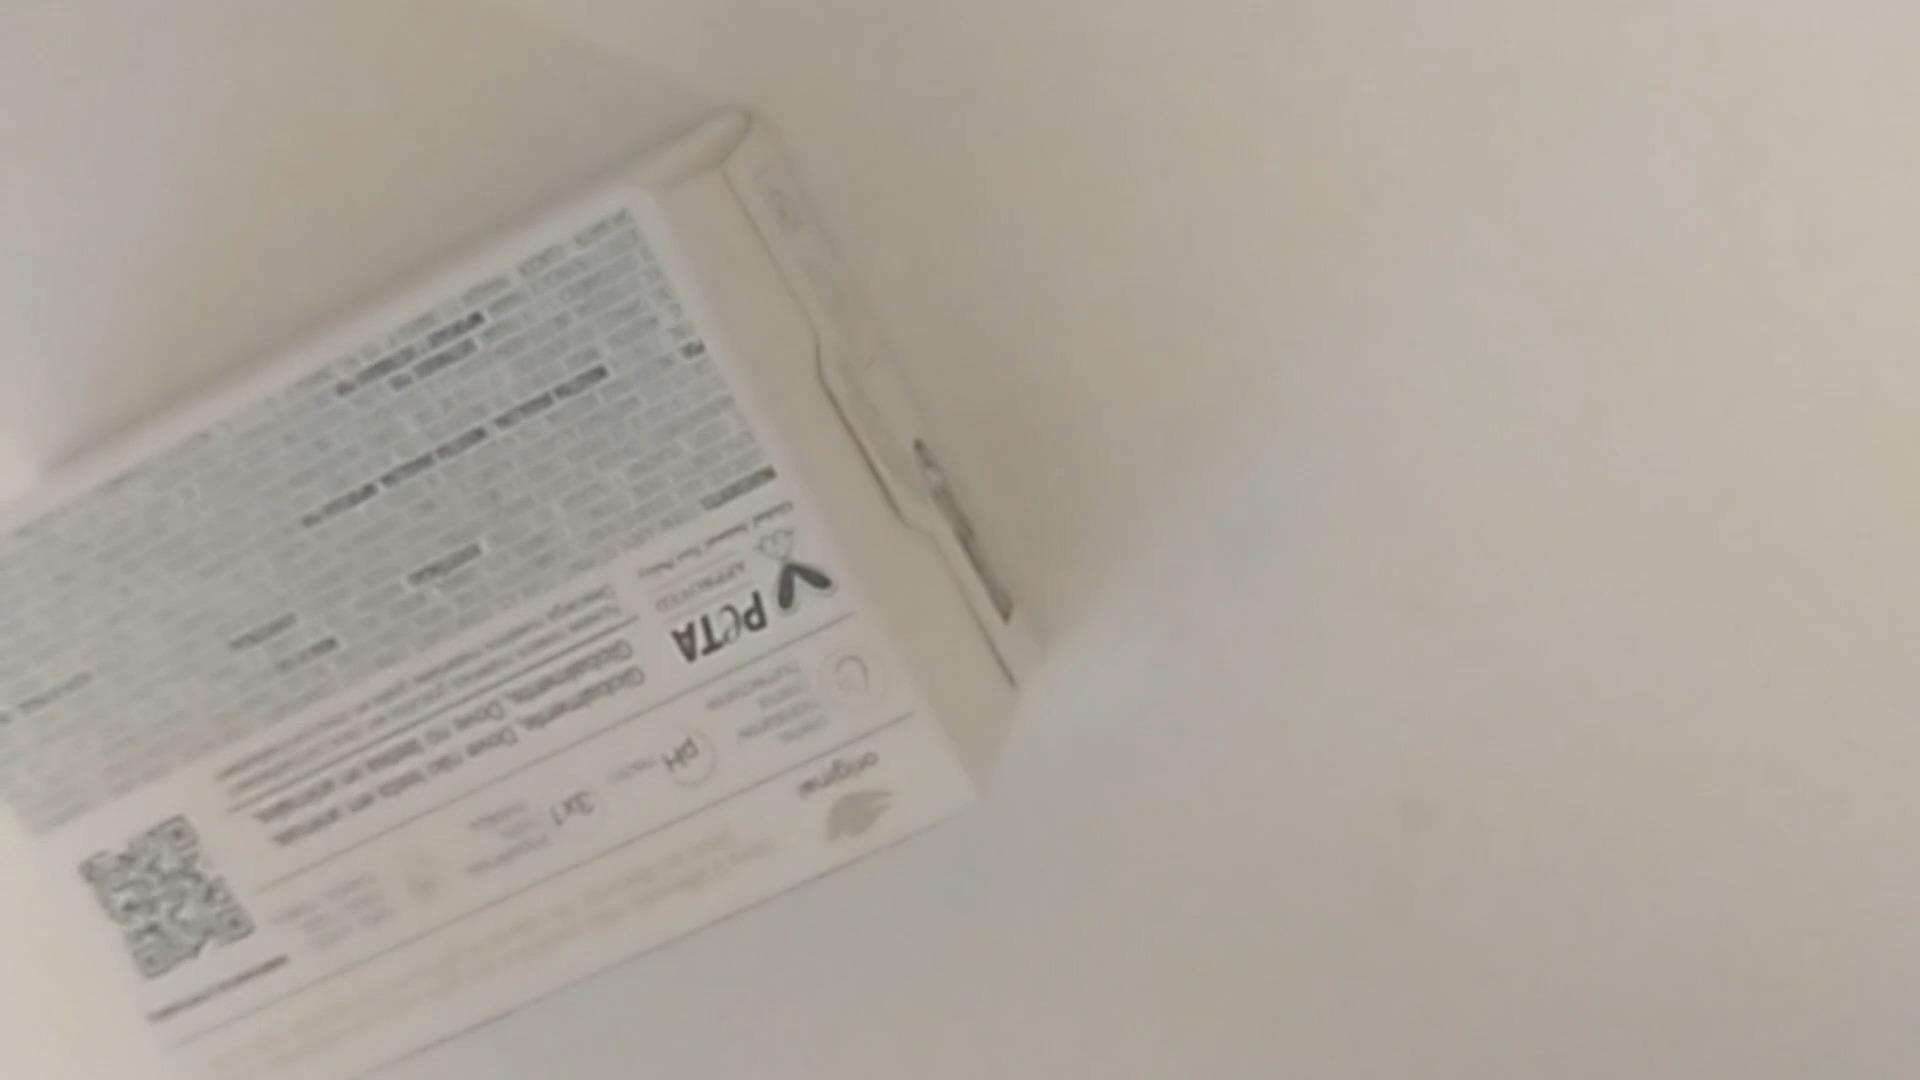soap: (22, 128, 1025, 1054)
